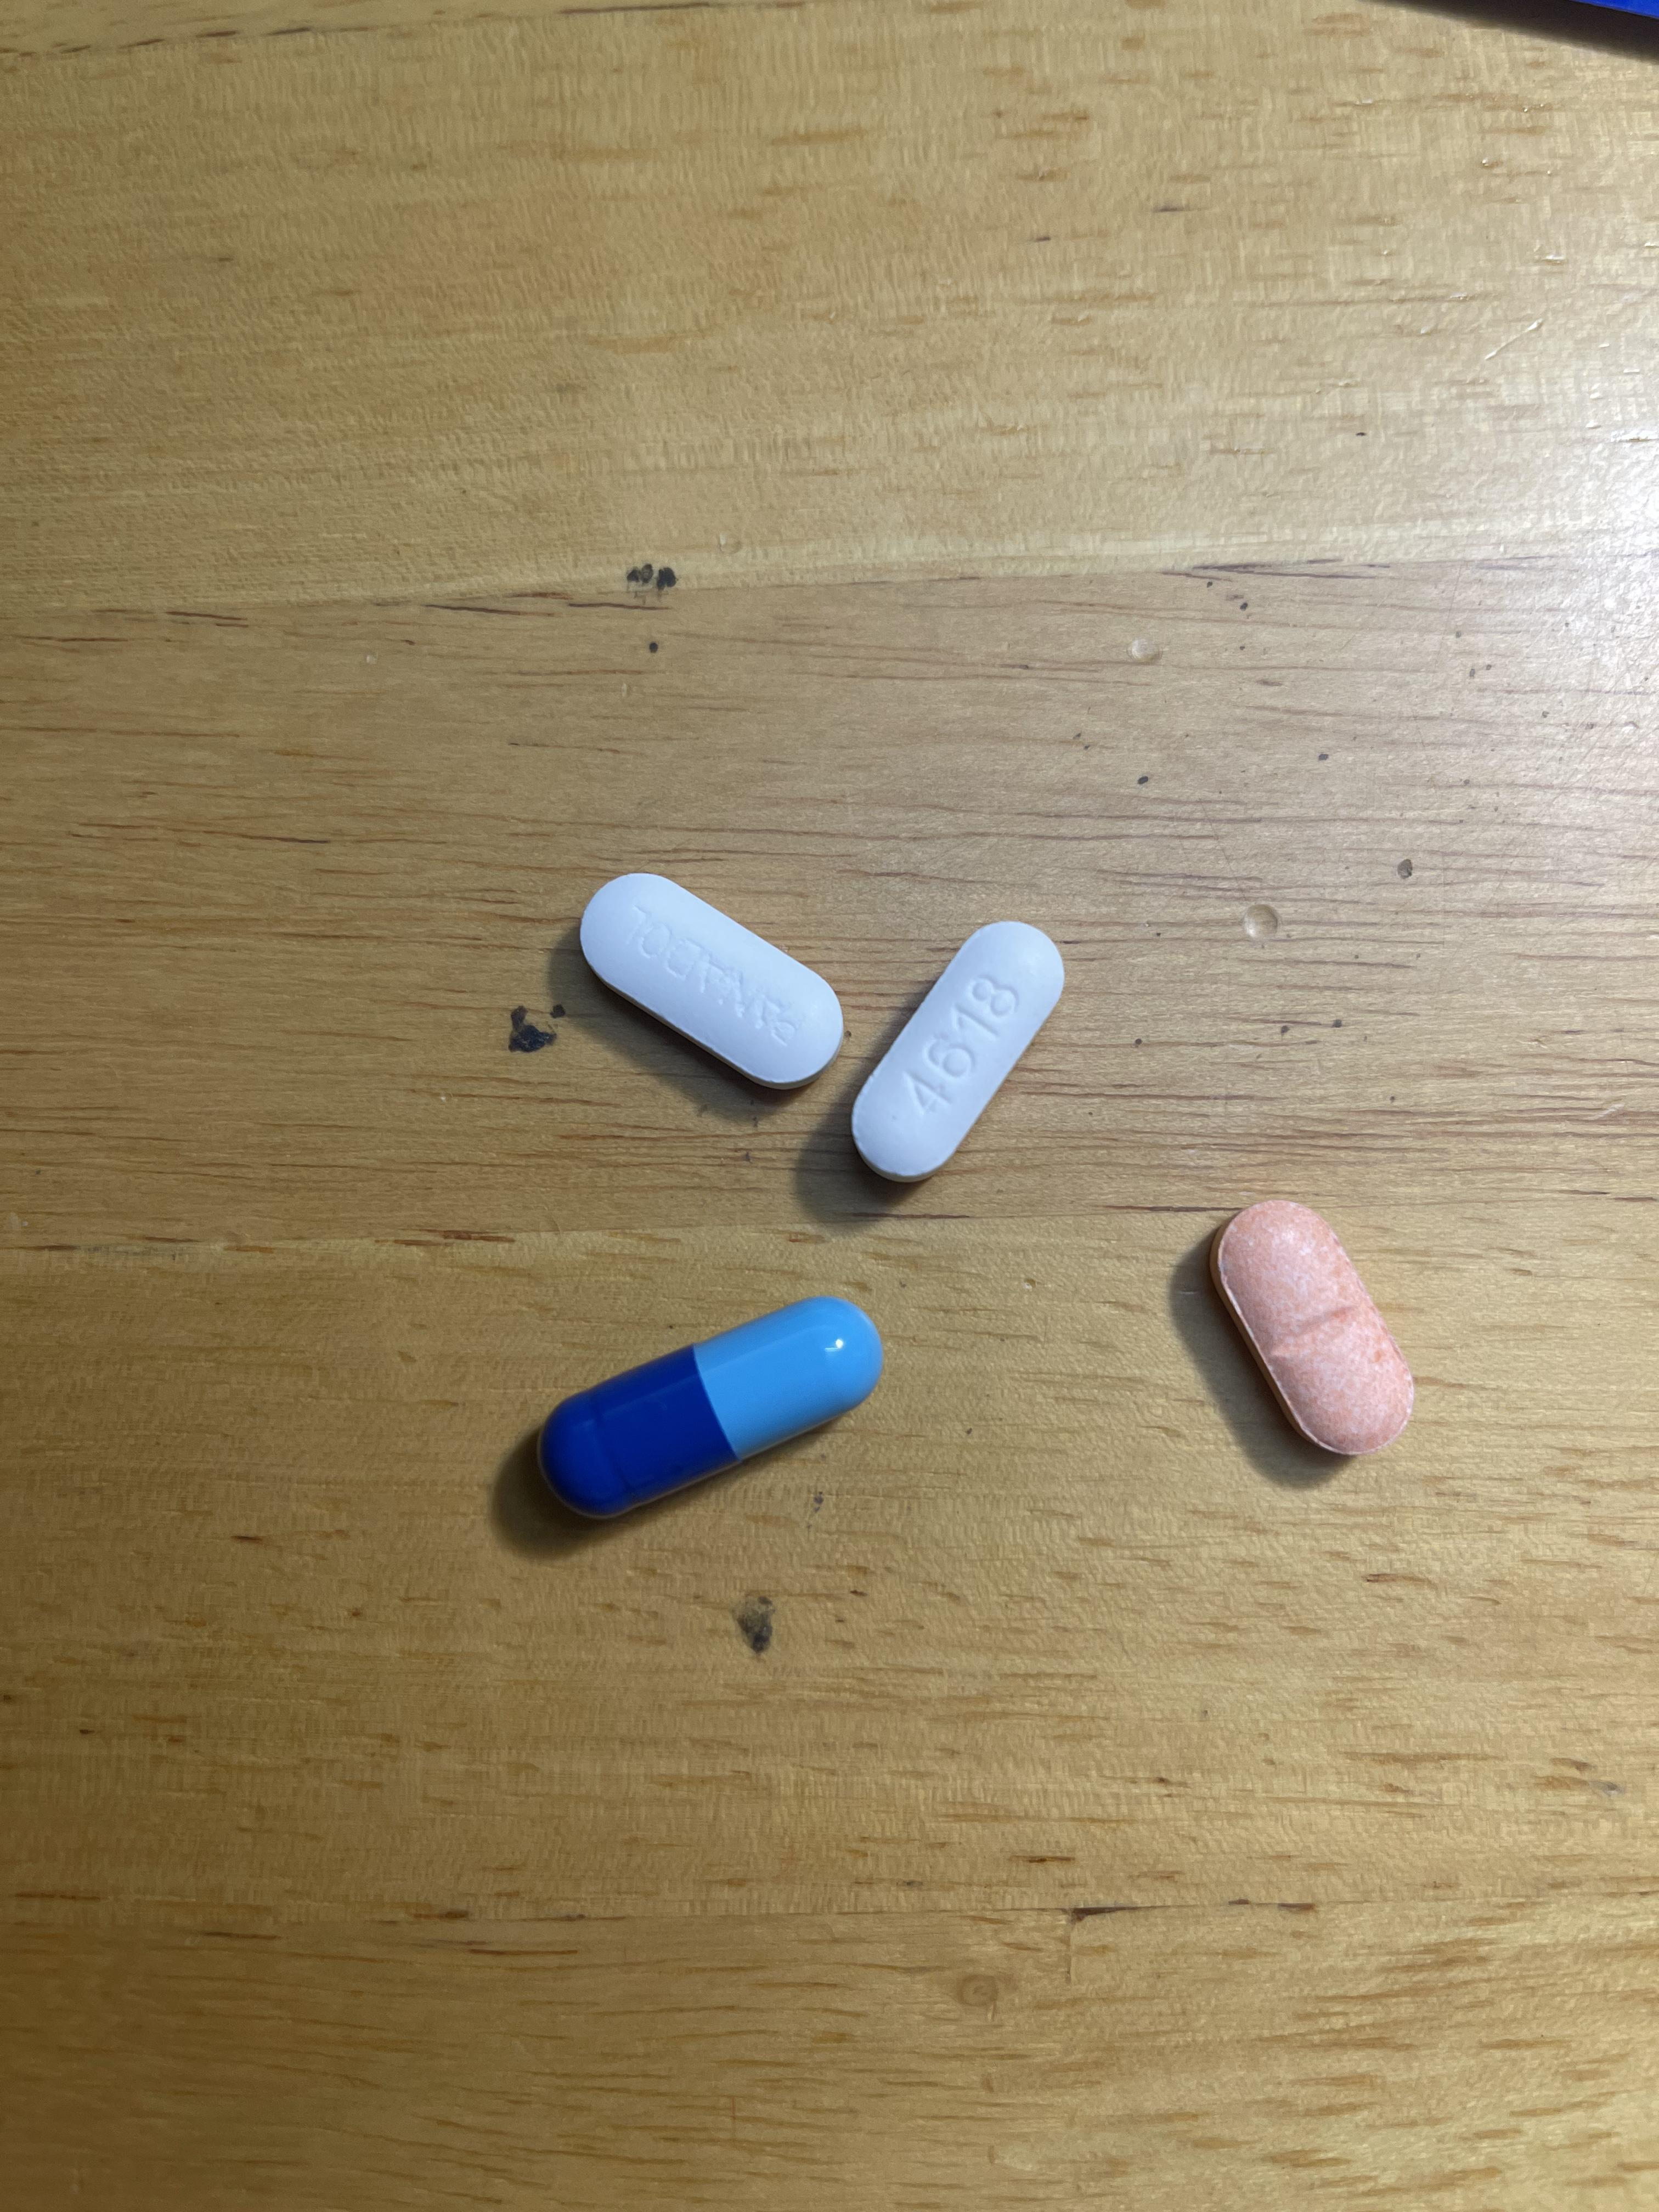Loratadine_10mg: (1206, 1195, 1408, 1454)
Paracetamol_350mg: (587, 873, 836, 1092)
Paracetamol_500mg: (850, 920, 1058, 1181)
pill: (545, 1298, 875, 1522)
